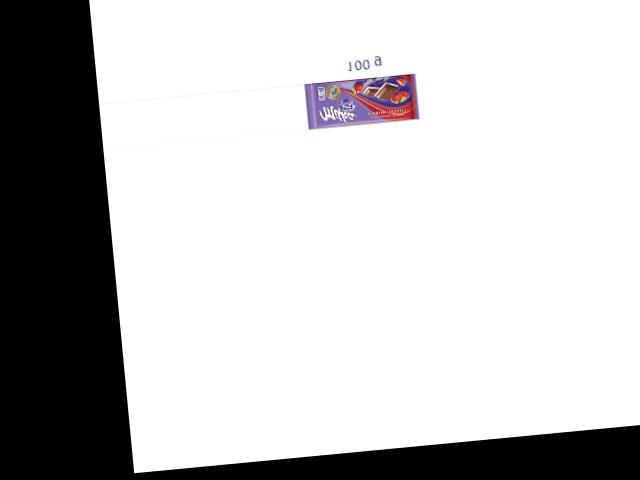chocolate: (304, 67, 420, 129)
